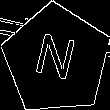N_S: (31, 30, 81, 89)
